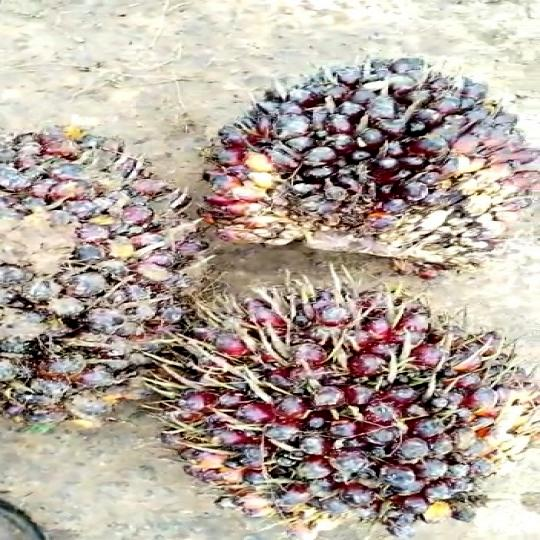kurang masak: (154, 279, 526, 540), (185, 36, 540, 269), (0, 121, 207, 440)
